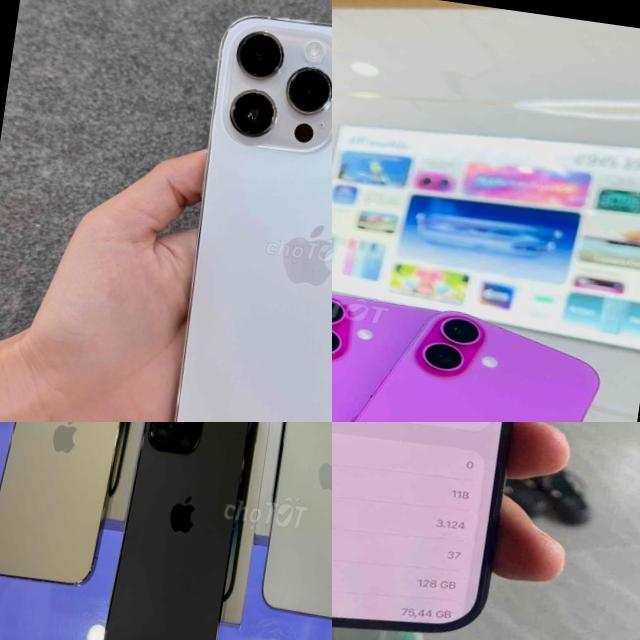gen_14: (146, 1, 332, 422), (94, 422, 260, 640), (0, 422, 134, 581), (247, 422, 332, 640)
gen_15: (332, 422, 563, 640)
gen_16: (332, 279, 611, 422)
